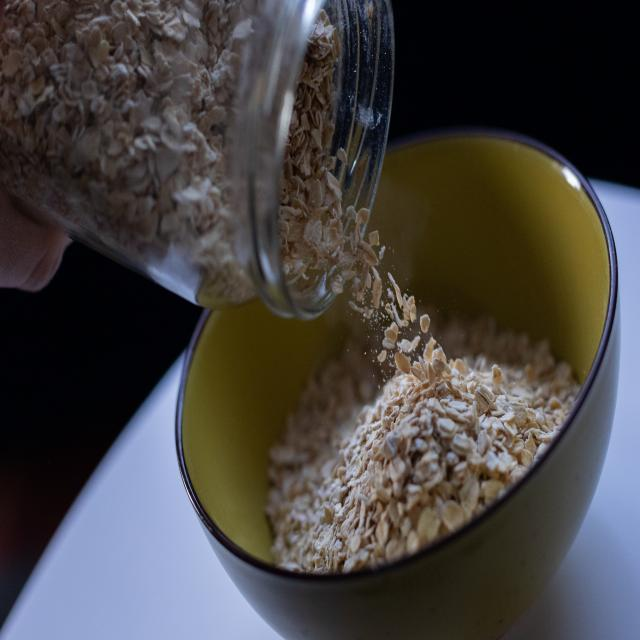avena: (264, 312, 594, 594)
